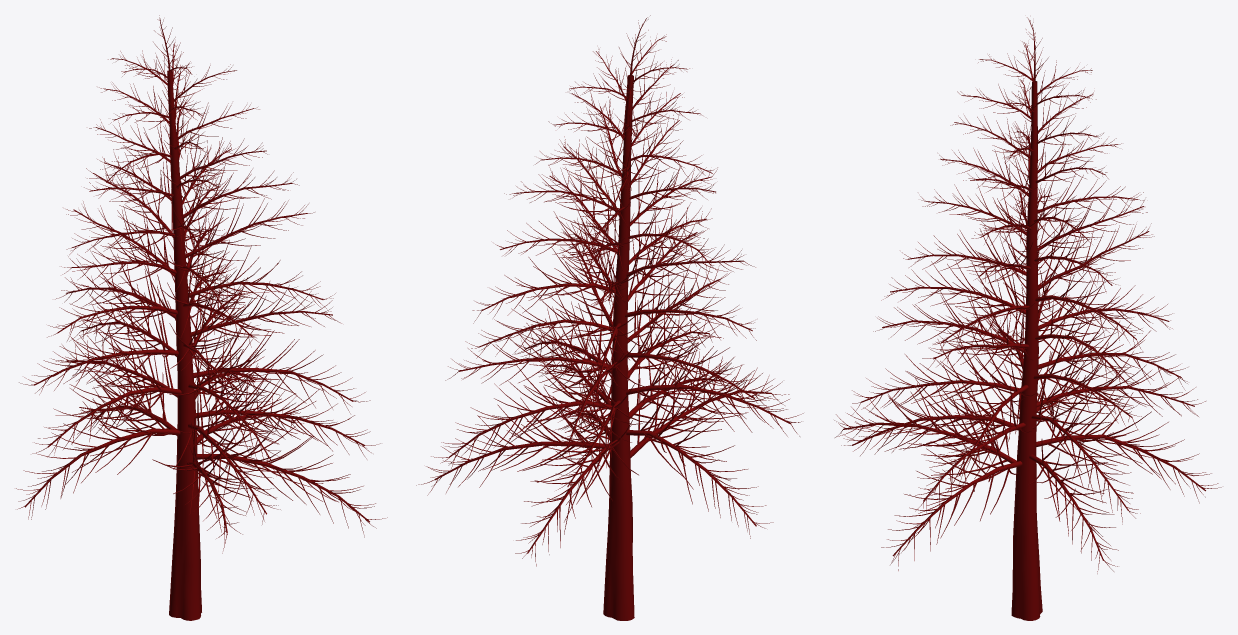
Rendered from Tree.FBX.
3 renders of one model, left to right at view 1: azimuth 30°, elevation 25°; view 2: azimuth 150°, elevation 25°; view 3: azimuth 270°, elevation 25°, orthographic. The views are drawn at different scales.
Parts seen in each view (by area): view 1: Foliage001; view 2: Foliage001; view 3: Foliage001.
Boxes of the visible parts, left/top/right/bottom form: Foliage001: left=16, top=15, right=387, bottom=620; Foliage001: left=416, top=15, right=803, bottom=620; Foliage001: left=834, top=17, right=1221, bottom=620.
Bounding box in the file's own units: 386 × 683 × 413.
